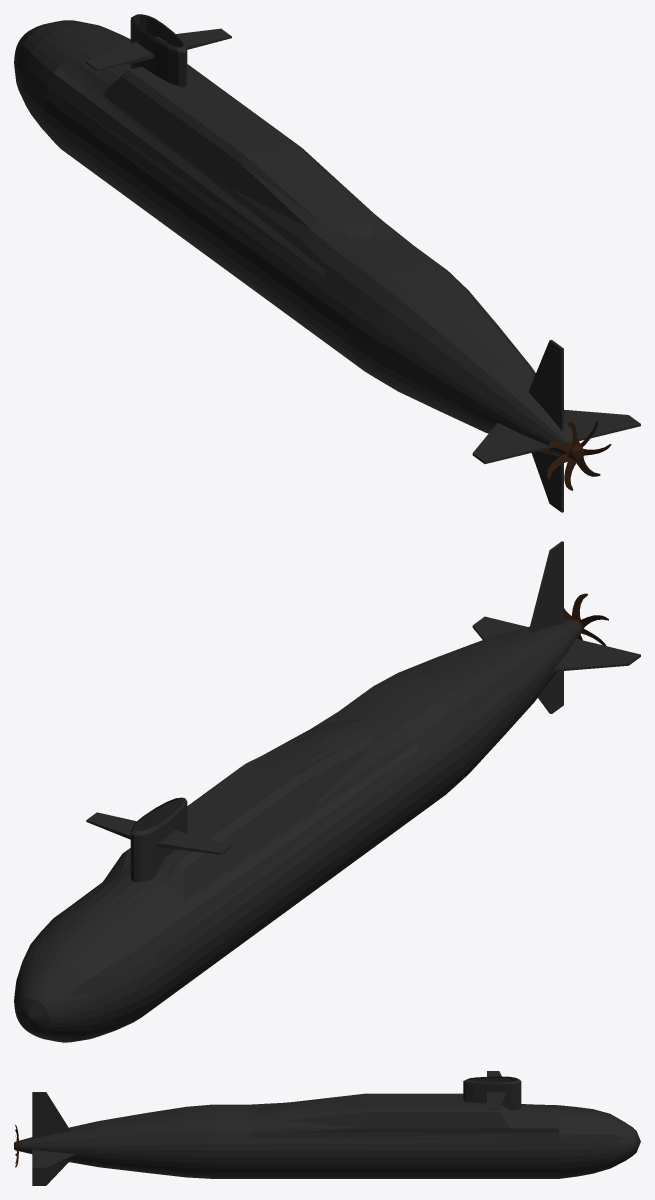
Rendered from SM-Yamato.obj.
3 renders of one model, top to bottom at view 1: azimuth 30°, elevation 25°; view 2: azimuth 150°, elevation 25°; view 3: azimuth 270°, elevation 25°, orthographic. The views are drawn at different scales.
Visible parts, largest first — view 1: ShapeIndexedFaceSet_ShapeIndexedFaceSet.001, ShapeIndexedFaceSet.007_ShapeIndexedFaceSet.008, ShapeIndexedFaceSet.005_ShapeIndexedFaceSet.006, ShapeIndexedFaceSet.009_ShapeIndexedFaceSet, ShapeIndexedFaceSet.003_ShapeIndexedFaceSet.004, ShapeIndexedFaceSet.004_ShapeIndexedFaceSet.005; view 2: ShapeIndexedFaceSet_ShapeIndexedFaceSet.001, ShapeIndexedFaceSet.007_ShapeIndexedFaceSet.008, ShapeIndexedFaceSet.005_ShapeIndexedFaceSet.006, ShapeIndexedFaceSet.003_ShapeIndexedFaceSet.004, ShapeIndexedFaceSet.004_ShapeIndexedFaceSet.005; view 3: ShapeIndexedFaceSet_ShapeIndexedFaceSet.001, ShapeIndexedFaceSet.007_ShapeIndexedFaceSet.008, ShapeIndexedFaceSet.004_ShapeIndexedFaceSet.005, ShapeIndexedFaceSet.005_ShapeIndexedFaceSet.006.
Boxes of the visible parts, left/top/right/bottom form: ShapeIndexedFaceSet_ShapeIndexedFaceSet.001: left=14, top=14, right=627, bottom=503; ShapeIndexedFaceSet.007_ShapeIndexedFaceSet.008: left=549, top=340, right=563, bottom=512; ShapeIndexedFaceSet.005_ShapeIndexedFaceSet.006: left=472, top=415, right=640, bottom=463; ShapeIndexedFaceSet.009_ShapeIndexedFaceSet: left=546, top=421, right=611, bottom=490; ShapeIndexedFaceSet.003_ShapeIndexedFaceSet.004: left=86, top=41, right=153, bottom=70; ShapeIndexedFaceSet.004_ShapeIndexedFaceSet.005: left=155, top=28, right=231, bottom=49; ShapeIndexedFaceSet_ShapeIndexedFaceSet.001: left=14, top=550, right=628, bottom=1042; ShapeIndexedFaceSet.007_ShapeIndexedFaceSet.008: left=550, top=541, right=563, bottom=713; ShapeIndexedFaceSet.005_ShapeIndexedFaceSet.006: left=473, top=616, right=640, bottom=665; ShapeIndexedFaceSet.003_ShapeIndexedFaceSet.004: left=157, top=830, right=231, bottom=854; ShapeIndexedFaceSet.004_ShapeIndexedFaceSet.005: left=86, top=812, right=155, bottom=839; ShapeIndexedFaceSet_ShapeIndexedFaceSet.001: left=22, top=1076, right=640, bottom=1185; ShapeIndexedFaceSet.007_ShapeIndexedFaceSet.008: left=32, top=1092, right=46, bottom=1185; ShapeIndexedFaceSet.004_ShapeIndexedFaceSet.005: left=487, top=1092, right=506, bottom=1109; ShapeIndexedFaceSet.005_ShapeIndexedFaceSet.006: left=32, top=1149, right=46, bottom=1168.
Size of the model in its own units: 14.25 by 16.23 by 86.81.
